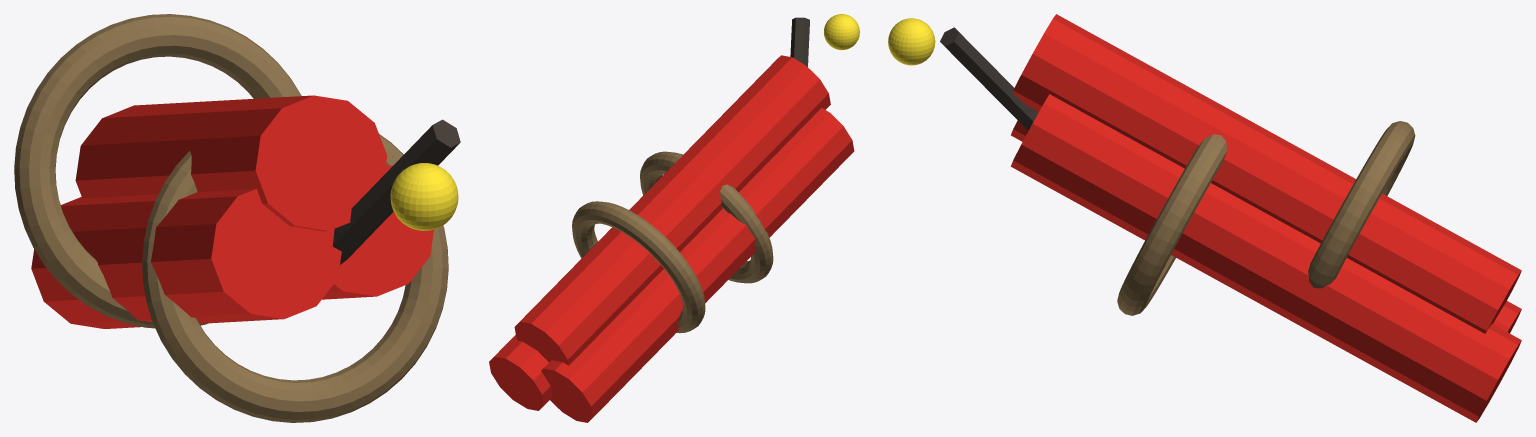
File: fps_dynamite.obj
3 views of the same model, side by side, from view 1: azimuth 30°, elevation 25°; view 2: azimuth 150°, elevation 25°; view 3: azimuth 270°, elevation 25° (orthographic). The views are drawn at different scales.
Visible parts, largest first — view 1: Cylinder.002, Cylinder, Torus, Torus.001, Cylinder.001, Cylinder.003, Sphere; view 2: Cylinder.002, Cylinder, Torus, Torus.001, Cylinder.001, Sphere, Cylinder.003; view 3: Cylinder.001, Cylinder.002, Torus.001, Torus, Cylinder.003, Sphere, Cylinder.
Boxes of the visible parts, box(x1,y1,x2,y2) form: Cylinder.002: box(75, 95, 387, 231); Cylinder: box(31, 188, 341, 328); Torus: box(14, 14, 301, 328); Torus.001: box(142, 134, 448, 422); Cylinder.001: box(322, 165, 433, 299); Cylinder.003: box(332, 119, 460, 264); Sphere: box(390, 163, 458, 230); Cylinder.002: box(514, 55, 830, 365); Cylinder: box(541, 108, 854, 422); Torus: box(572, 201, 705, 333); Torus.001: box(640, 151, 773, 283); Cylinder.001: box(489, 334, 552, 410); Sphere: box(824, 14, 859, 50); Cylinder.003: box(790, 17, 809, 66); Cylinder.001: box(1010, 94, 1521, 422); Cylinder.002: box(1012, 14, 1521, 333); Torus.001: box(1117, 134, 1226, 315); Torus: box(1308, 121, 1415, 288); Cylinder.003: box(940, 27, 1038, 130); Sphere: box(888, 18, 935, 65); Cylinder: box(1011, 120, 1521, 333).
Size of the model in its own units: 0.0981 by 0.1279 by 0.2145.
